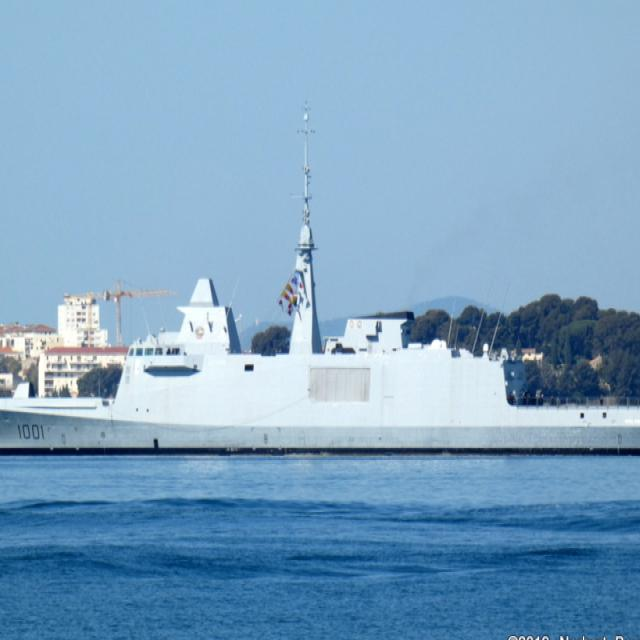Fragata: (1, 97, 640, 470)
